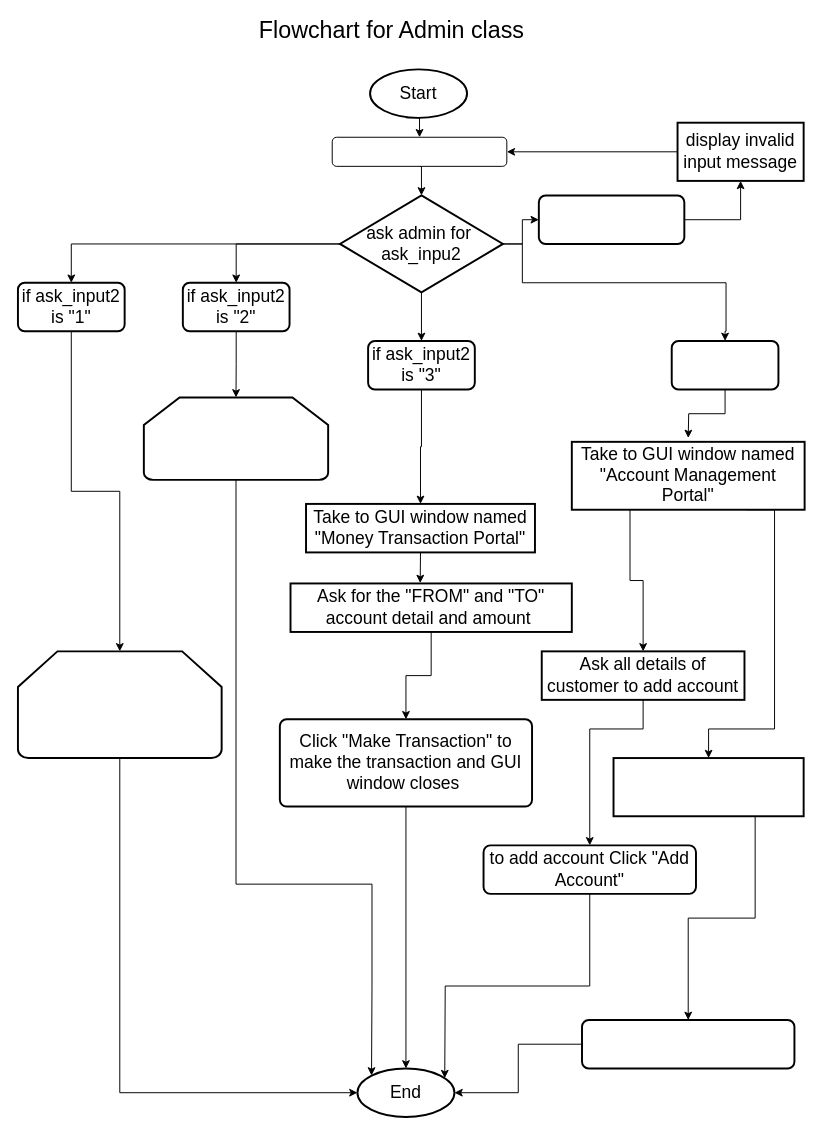
Some shapes in this 822 by 1135 pixel diagram are drawn without their labels. Each missing label, with the box of its shape:
ask all required deatils of customer to delete account: (612, 757, 804, 817)
Display admin menu: (331, 136, 507, 166)
Display every customer's every account summary: (16, 650, 222, 759)
Display Financial forecast for every customer: (142, 396, 329, 480)
if ask_input2 is "4": (670, 340, 779, 390)
if ask_input2 is anything else: (537, 194, 685, 244)
to delete account Click "Add Account": (581, 1018, 795, 1069)
